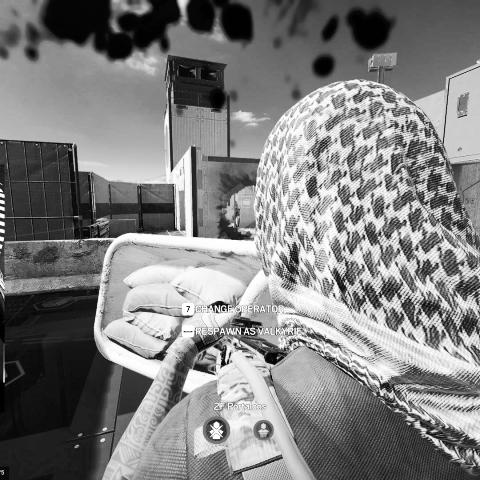Character: (105, 75, 480, 480), (232, 200, 241, 228)
Head: (252, 84, 480, 346), (234, 201, 238, 205)
